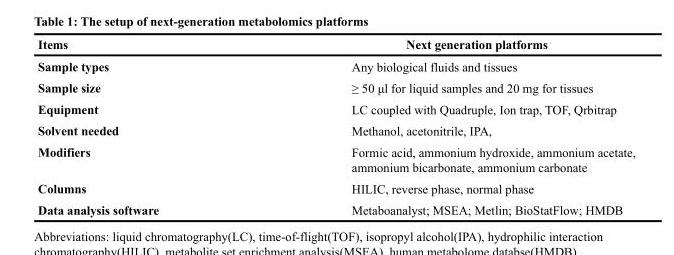table: (37, 36, 634, 216)
table column: (254, 36, 634, 216), (37, 36, 254, 216)
table column header: (37, 36, 634, 54)
table row: (37, 140, 634, 177), (37, 54, 634, 76), (37, 76, 634, 98), (37, 98, 634, 119), (37, 119, 634, 140), (37, 177, 634, 198), (37, 36, 634, 54), (37, 198, 634, 216)
